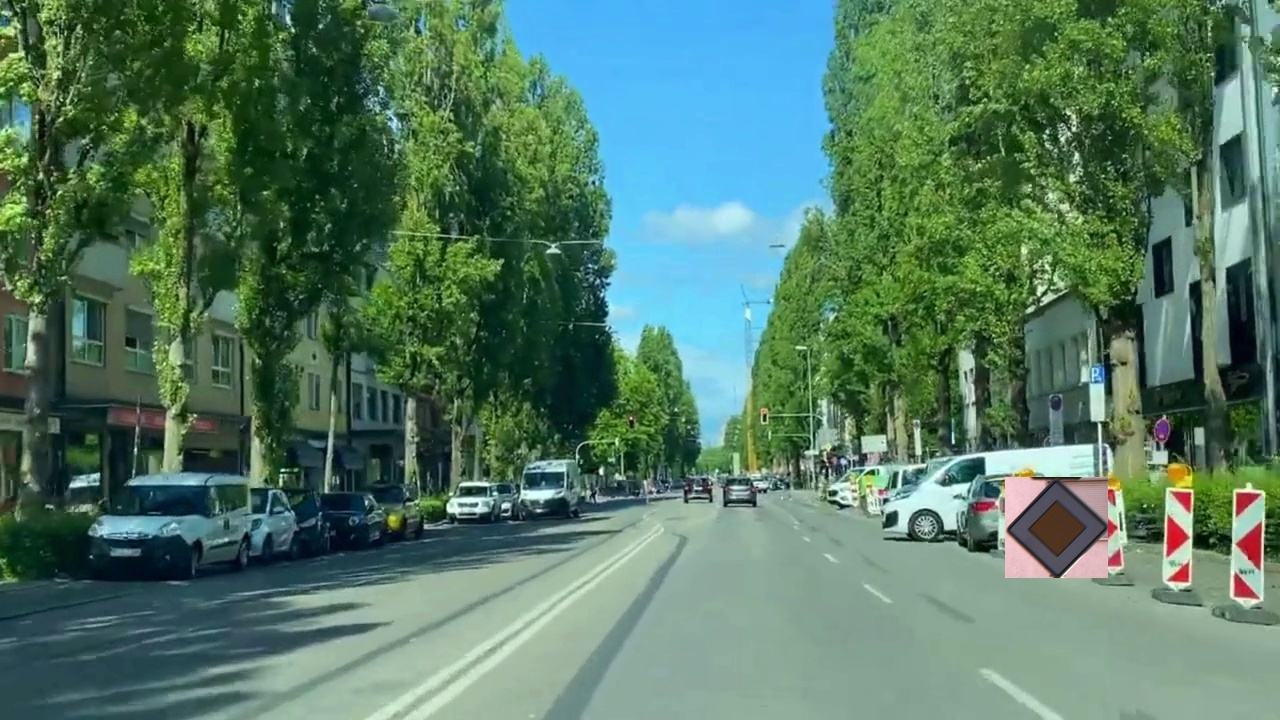Priority road: (1005, 477, 1108, 578)
